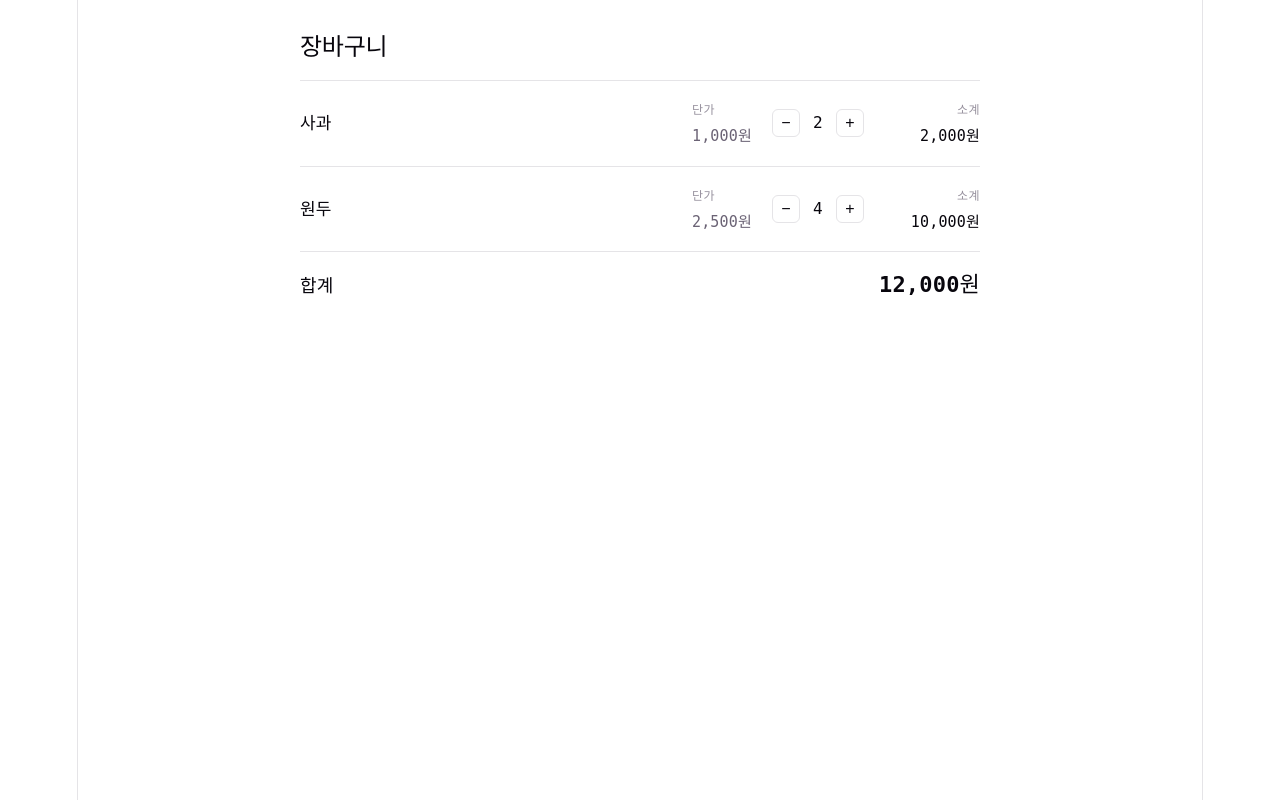
수량 스테퍼 › + 를 누르면 그 줄의 수량과 소계·합계가 1개분 오른다 (S5)
Click the button named "사과 수량 늘리기".
click(850, 123)  # box [836,109,864,137]
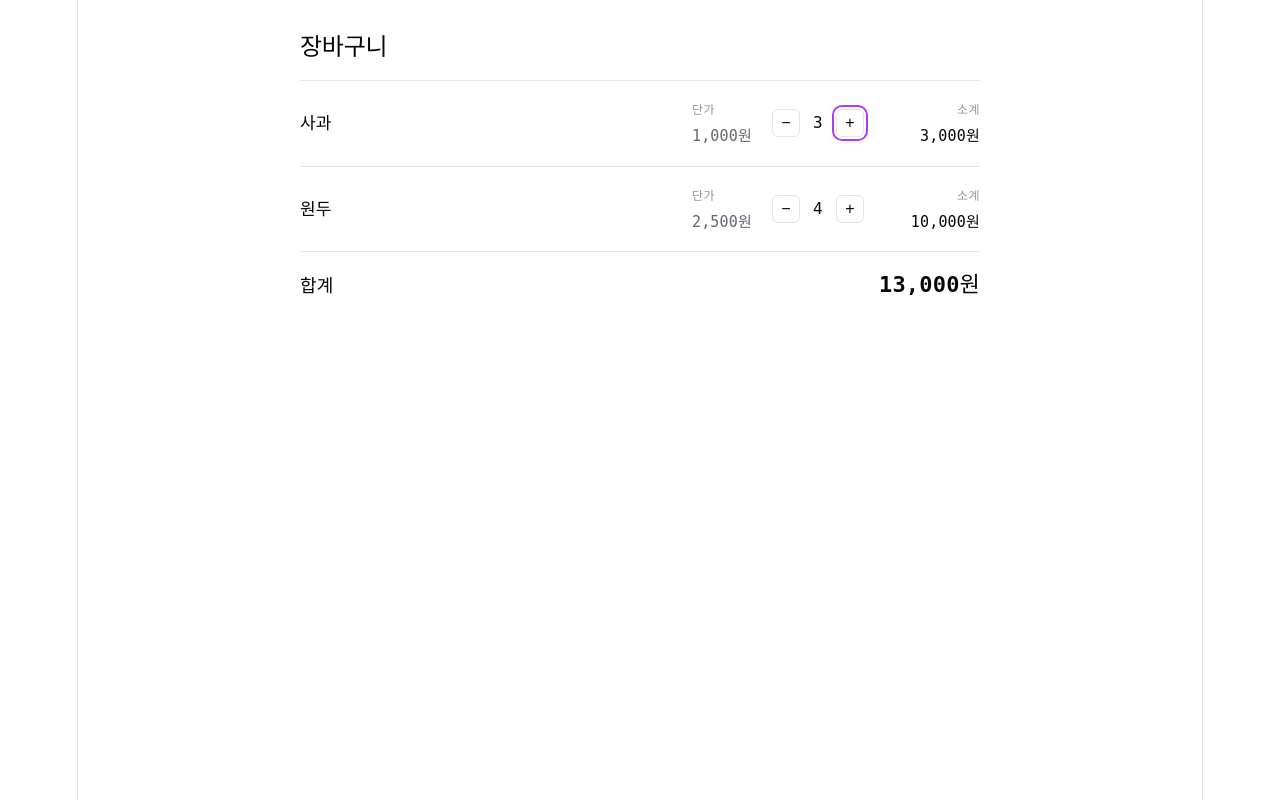
Check: the list item "사과" shows "3,000원", box [920,127,980,145]
Check: the text "13,000원" is shown, box [879,272,980,298]
